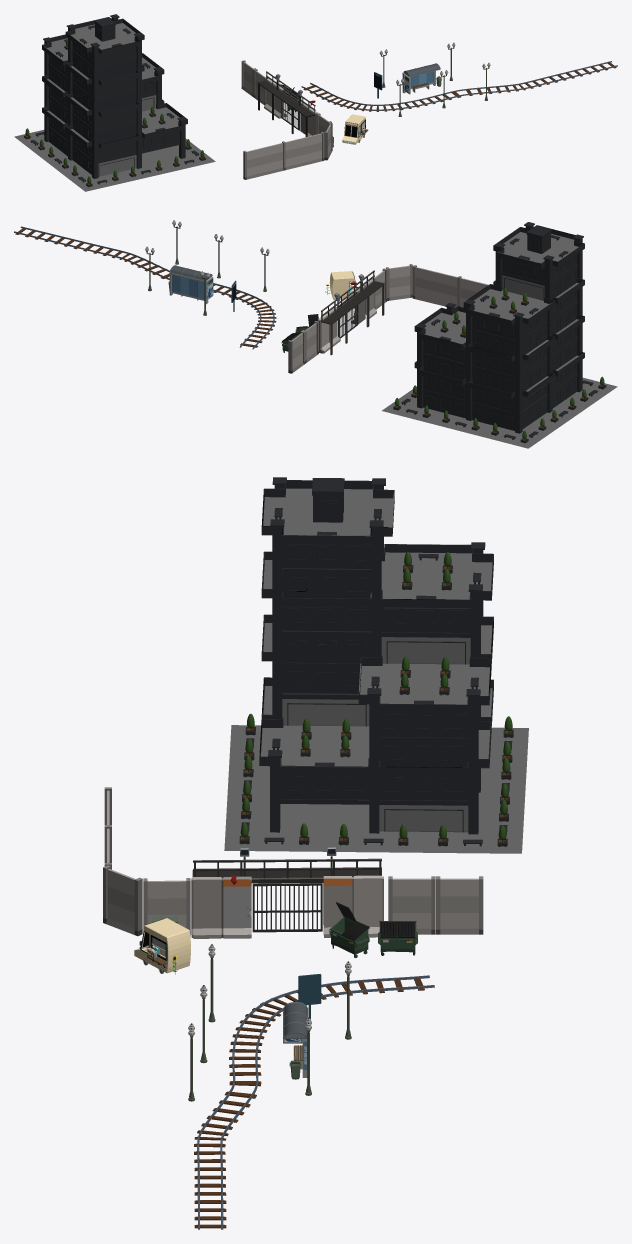
File: passive3.gltf
3 views of the same model, one above another, from view 1: azimuth 30°, elevation 25°; view 2: azimuth 150°, elevation 25°; view 3: azimuth 270°, elevation 25° (orthographic). The views are drawn at different scales.
Visible parts, largest first — view 1: Chateau, Porte, rails, Murbéton1.006, Murbéton1.001, Abribus, Camion, Murbéton1.005, Murbéton1.004, Murbéton1.003; view 2: Chateau, Porte, rails, Murbéton1.001, Abribus, Murbéton1.003, Murbéton1.005, Camion, Murbéton1.004, Murbéton1.006, Murbéton1.002; view 3: Chateau, Porte, rails, Murbéton1.005, Murbéton1.004, Murbéton1.003, Camion, Murbéton1.002, Abribus, polySurface1572_PolygonCity_Mat_01_A_0, polySurface1221_PolygonCity_Mat_01_A_0.
Part boxes in pixels (box(x1,y1,x2,y2)): Chateau: box(14, 14, 215, 191); Porte: box(257, 71, 318, 136); rails: box(301, 61, 617, 111); Murbéton1.006: box(243, 141, 285, 179); Murbéton1.001: box(282, 132, 324, 170); Abribus: box(402, 63, 441, 94); Camion: box(342, 114, 368, 144); Murbéton1.005: box(241, 60, 255, 96); Murbéton1.004: box(253, 69, 268, 105); Murbéton1.003: box(324, 122, 332, 160); Chateau: box(382, 222, 617, 448); Porte: box(317, 270, 384, 355); rails: box(14, 226, 276, 349); Murbéton1.001: box(412, 265, 460, 307); Abribus: box(168, 265, 213, 304); Murbéton1.003: box(386, 264, 413, 300); Murbéton1.005: box(288, 331, 305, 373); Camion: box(329, 271, 357, 300); Murbéton1.004: box(302, 321, 318, 363); Murbéton1.006: box(458, 276, 488, 307); Murbéton1.002: box(371, 268, 387, 309); Chateau: box(224, 477, 528, 853); Porte: box(191, 847, 383, 938); rails: box(194, 975, 434, 1229); Murbéton1.005: box(436, 876, 483, 934); Murbéton1.004: box(388, 876, 435, 934); Murbéton1.003: box(103, 865, 142, 936); Camion: box(134, 918, 190, 973); Murbéton1.002: box(143, 878, 190, 936); Abribus: box(283, 1001, 308, 1079); polySurface1572_PolygonCity_Mat_01_A_0: box(329, 902, 369, 957); polySurface1221_PolygonCity_Mat_01_A_0: box(378, 921, 417, 955).
Size of the model in its own units: 167 by 43.24 by 58.93.
12 materials, 11 textured.
